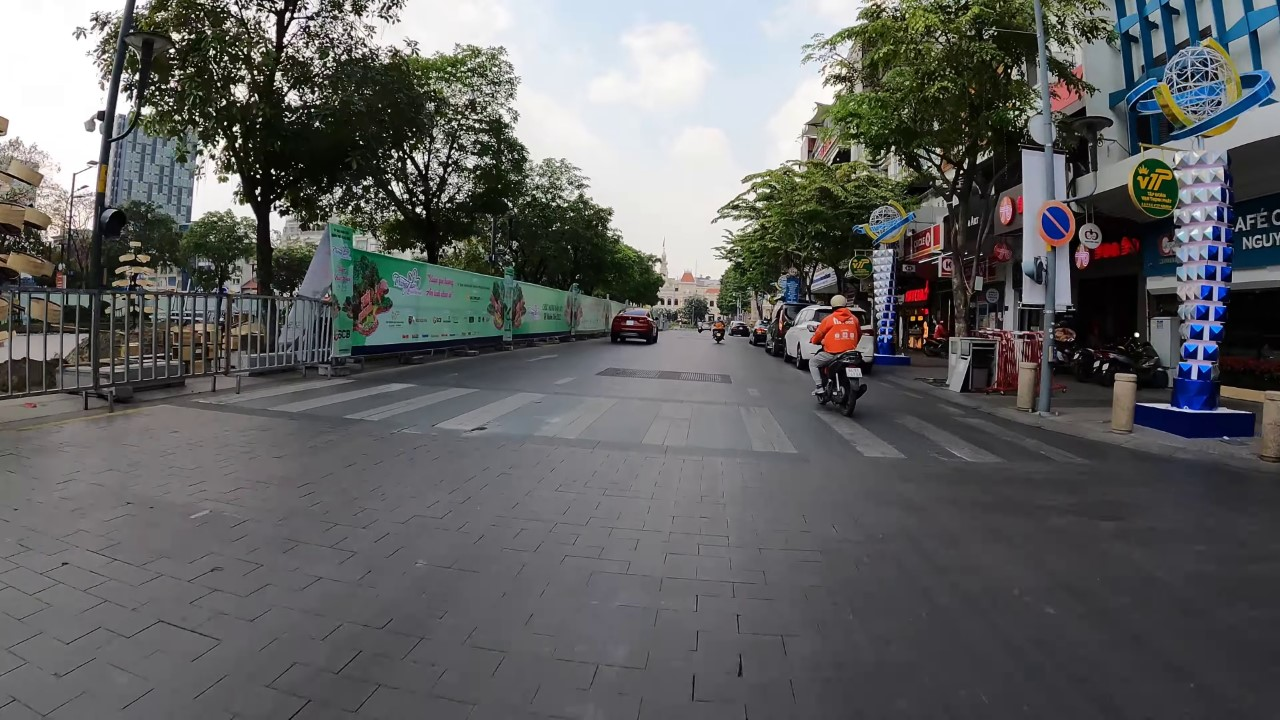cam_do_xe: (1031, 195, 1078, 251)
